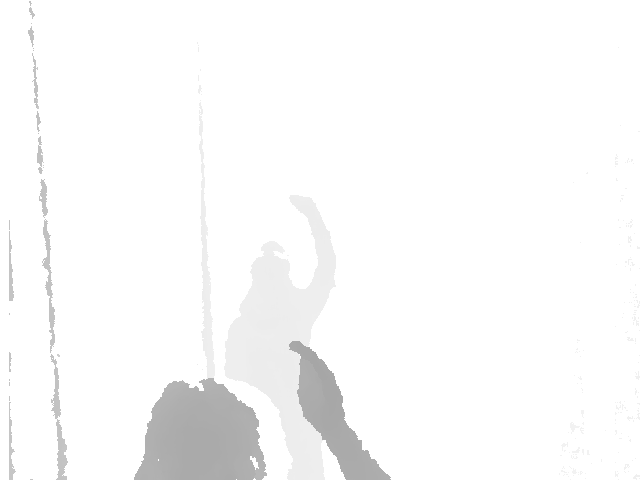hand: (288, 336, 348, 434), (291, 190, 325, 230)
head: (139, 377, 262, 480), (241, 242, 296, 297)
person: (135, 340, 392, 480), (221, 190, 340, 443)
